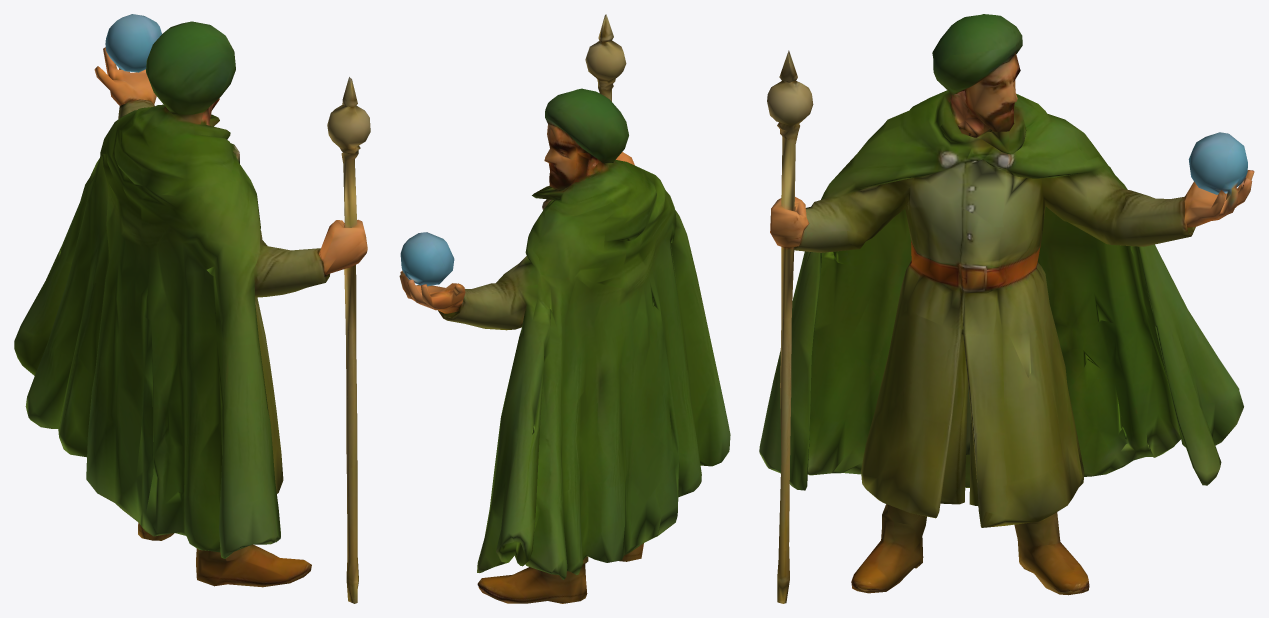
3 renders of one model, left to right at view 1: azimuth 30°, elevation 25°; view 2: azimuth 150°, elevation 25°; view 3: azimuth 270°, elevation 25°, orthographic. The views are drawn at different scales.
Parts seen in each view (by area): view 1: tripo_node_98188bfe-1c4b-40ad-923d-9a81db5ac0f5; view 2: tripo_node_98188bfe-1c4b-40ad-923d-9a81db5ac0f5; view 3: tripo_node_98188bfe-1c4b-40ad-923d-9a81db5ac0f5.
Boxes of the visible parts, x1,y1,x2,y2 form: tripo_node_98188bfe-1c4b-40ad-923d-9a81db5ac0f5: (14, 14, 370, 603); tripo_node_98188bfe-1c4b-40ad-923d-9a81db5ac0f5: (399, 14, 730, 603); tripo_node_98188bfe-1c4b-40ad-923d-9a81db5ac0f5: (759, 14, 1254, 603).
Size of the model in its own units: 0.3167 by 0.9987 by 0.8078.
1 material, 1 textured.
